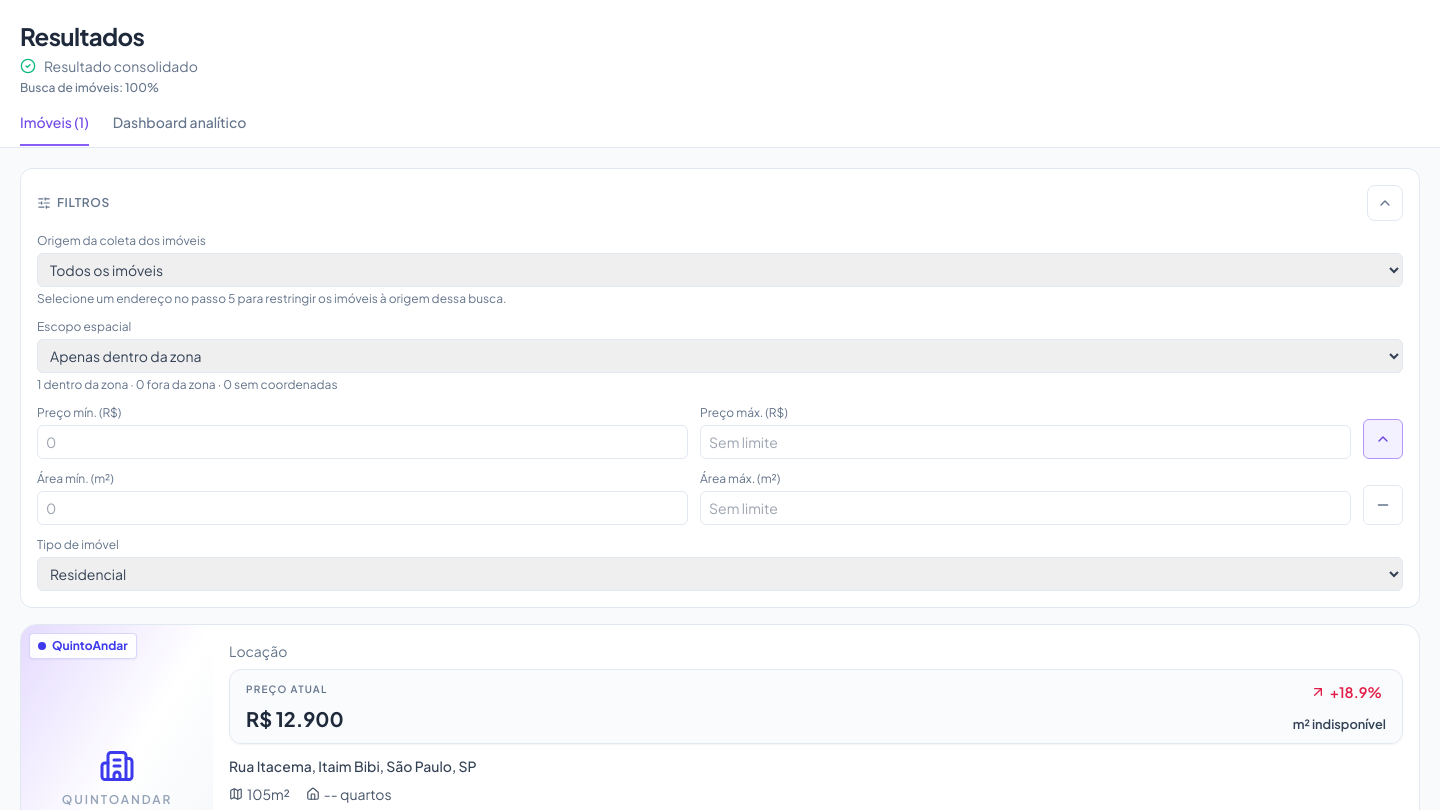
Step6Analysis › recarrega o ranking do dashboard quando muda a origem da coleta e mantém o bairro dominante da zona
The width and height of the screenshot is (1440, 810).
Click the button "Dashboard analítico".
click(180, 129)  # box [113,112,246,146]
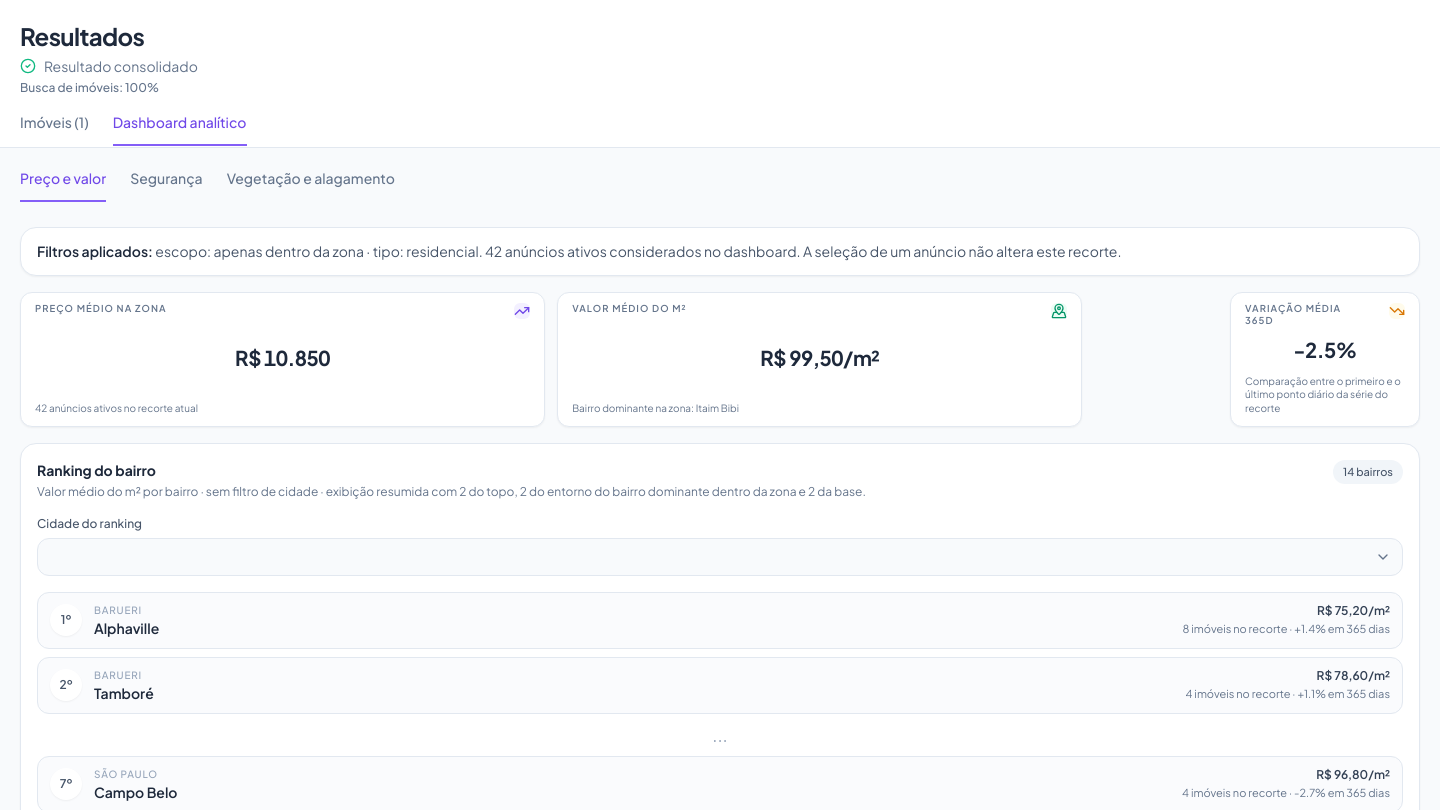
Now the text "14 bairros" is shown, box [1333,460,1403,484]
Click the button "Imóveis (1)".
click(54, 129)  # box [20,112,89,146]
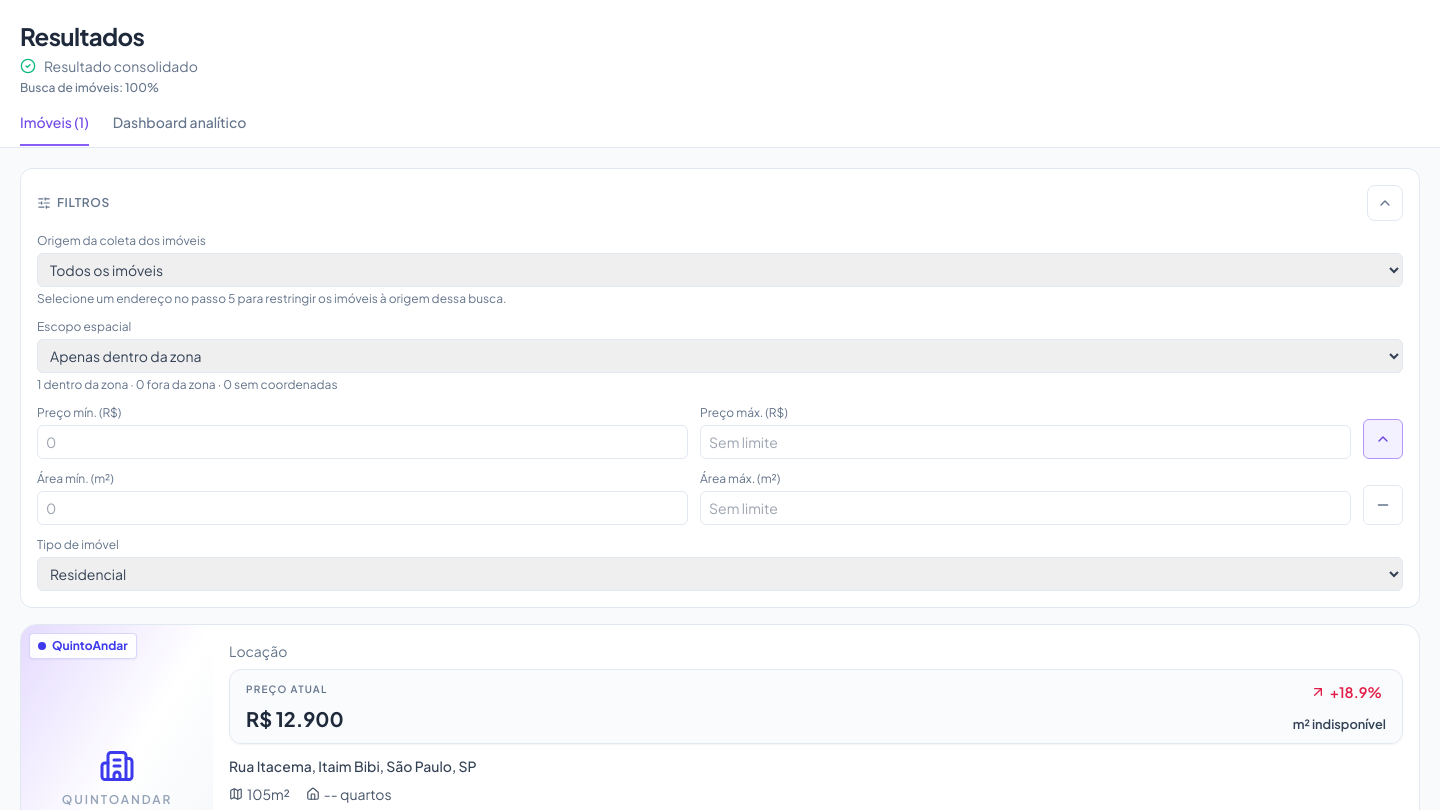
Now the heading "Rua Itacema, Itaim Bibi, São Paulo, SP" is shown, box [229,757,477,775]
Select "Somente imóveis do endereço selecionado" in the dropdown named "Origem da coleta dos imóveis" at (720,270), box [37,253,1403,287]
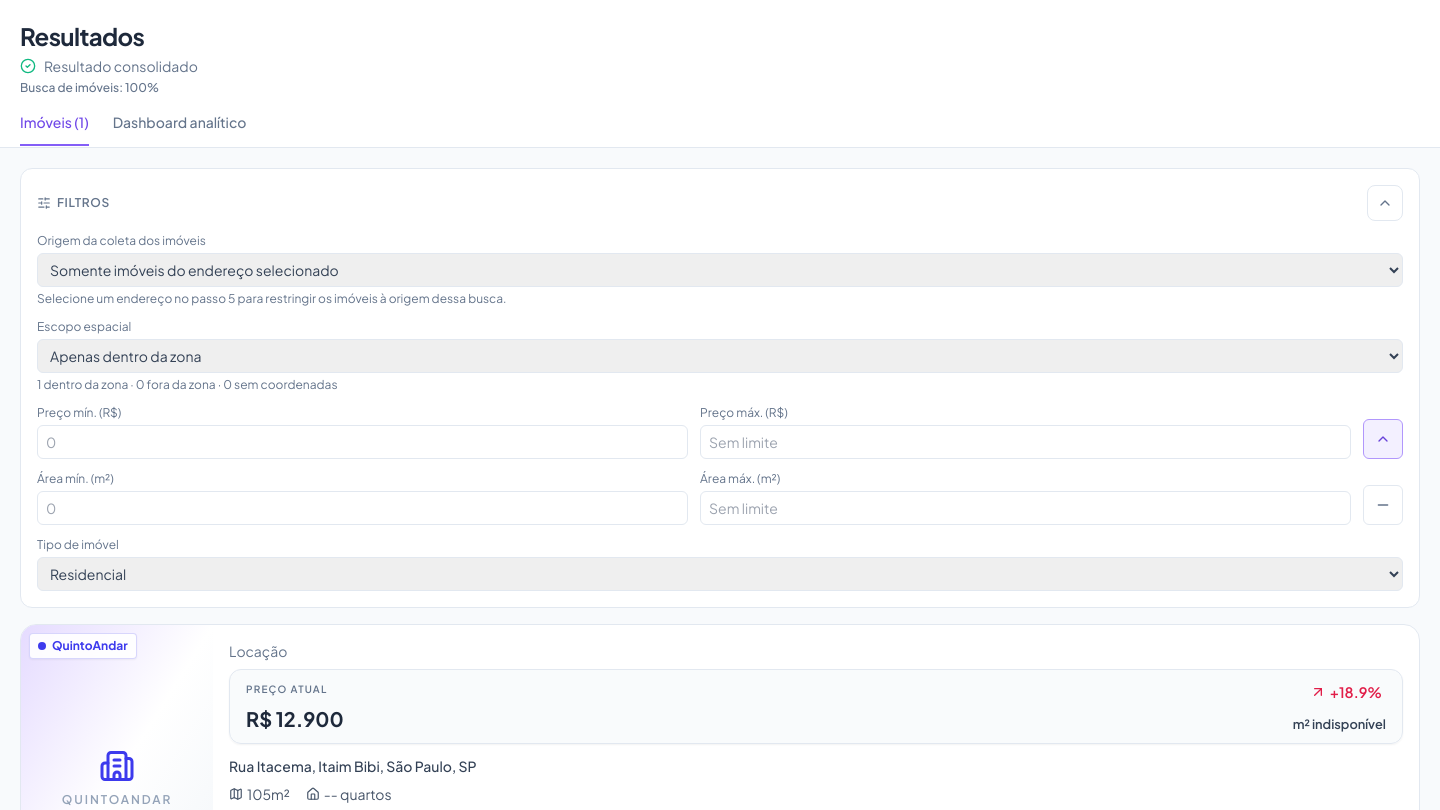
Click the button "Dashboard analítico".
click(180, 129)  # box [113,112,246,146]
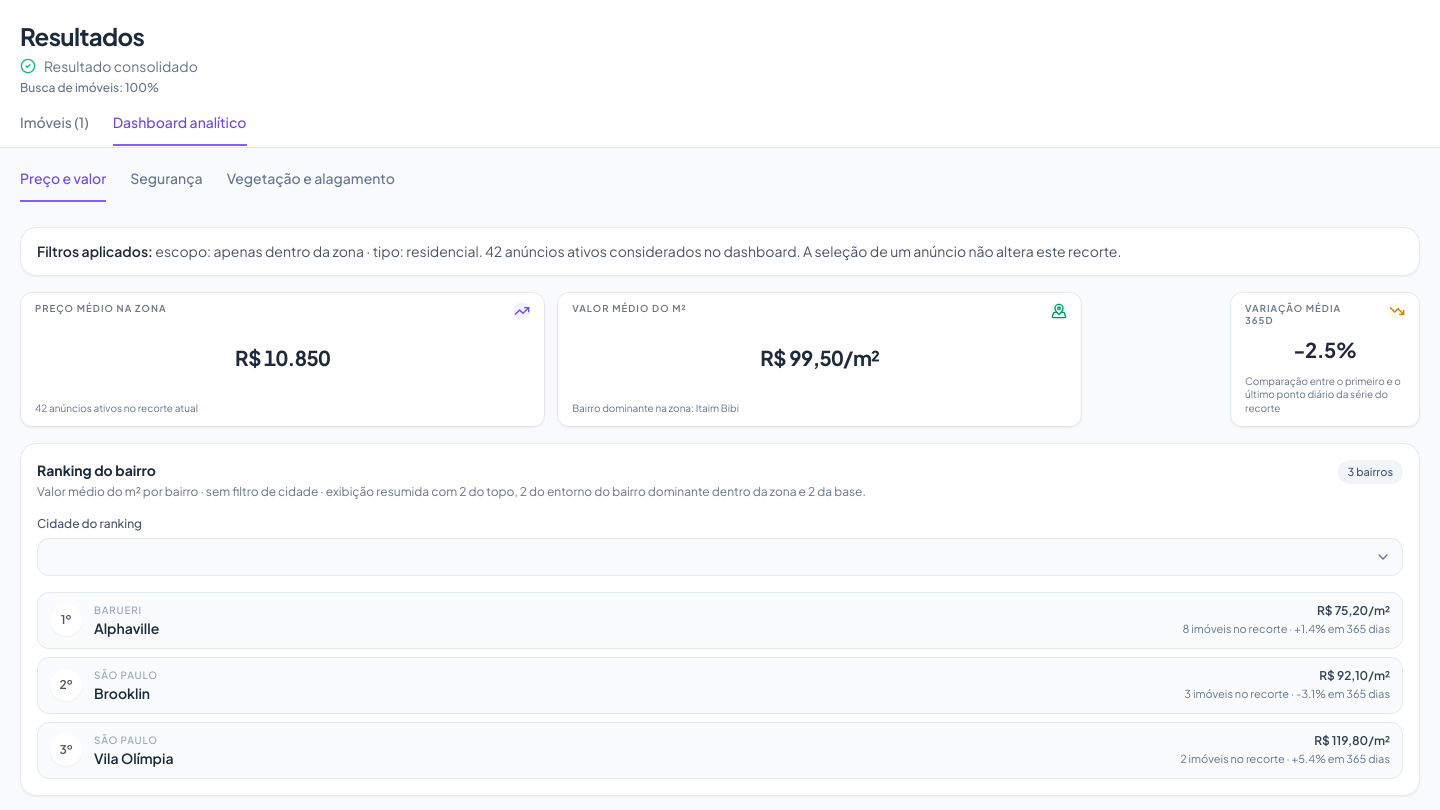
Now the text "3 bairros" is shown, box [1338,460,1403,484]
Now the text "Bairro dominante na zona: Itaim Bibi" is shown, box [572,402,739,414]
